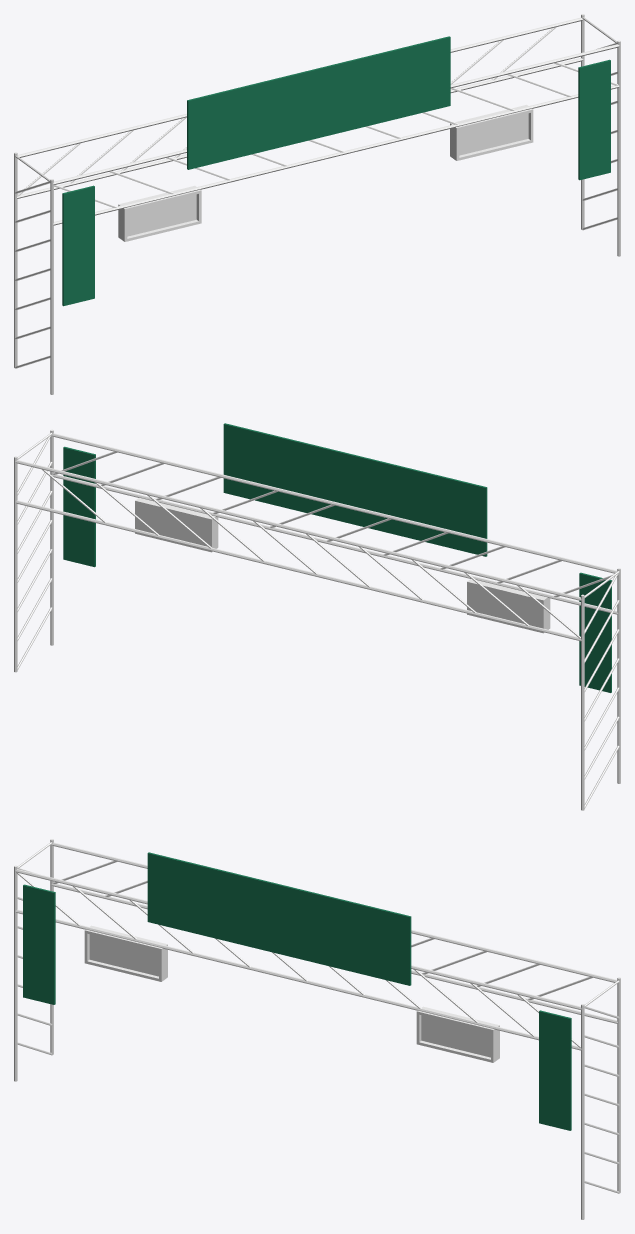
File: StartFinish.fbx
3 renders of one model, top to bottom at view 1: azimuth 30°, elevation 25°; view 2: azimuth 150°, elevation 25°; view 3: azimuth 330°, elevation 25°, orthographic.
Visible parts, largest first — view 1: StartFinish; view 2: StartFinish; view 3: StartFinish.
Boxes of the visible parts, <box> form: StartFinish: <box>14,14,620,394</box>; StartFinish: <box>14,423,620,810</box>; StartFinish: <box>14,839,620,1219</box>.
Bounding box in the file's own units: 18.08 × 7.97 × 2.17.
